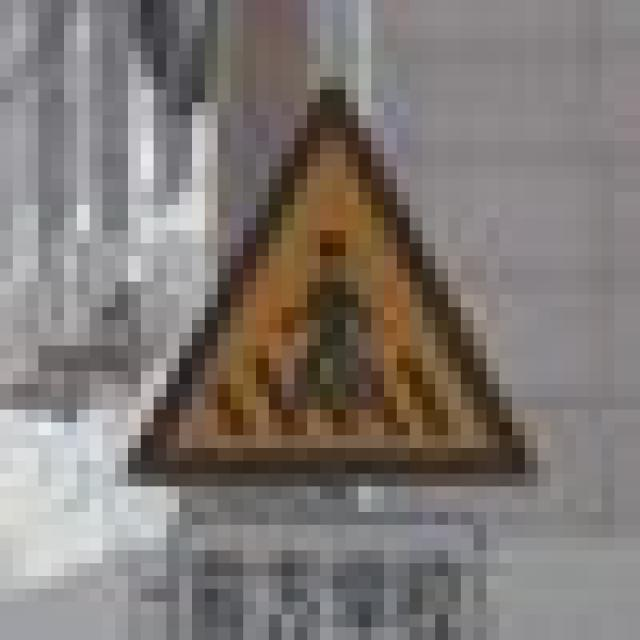PEDESTRIAN_CROSSING: (102, 64, 538, 474)
